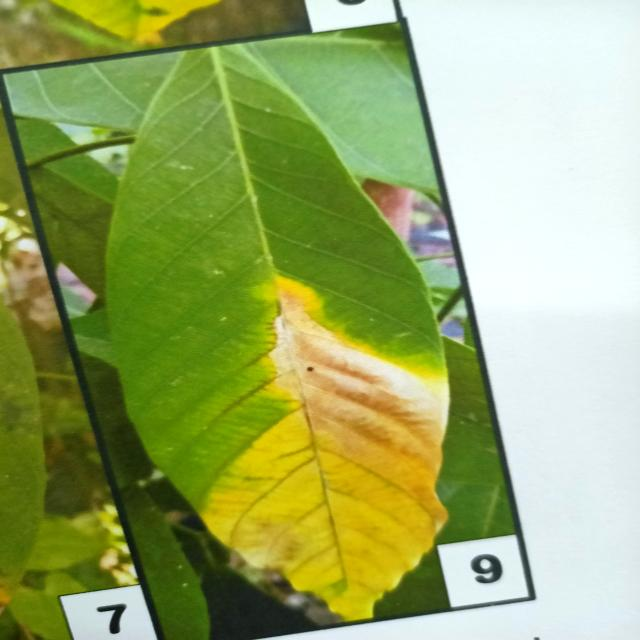Corynespora: (220, 375, 278, 417)
Leaf-Blight: (197, 280, 451, 620)
